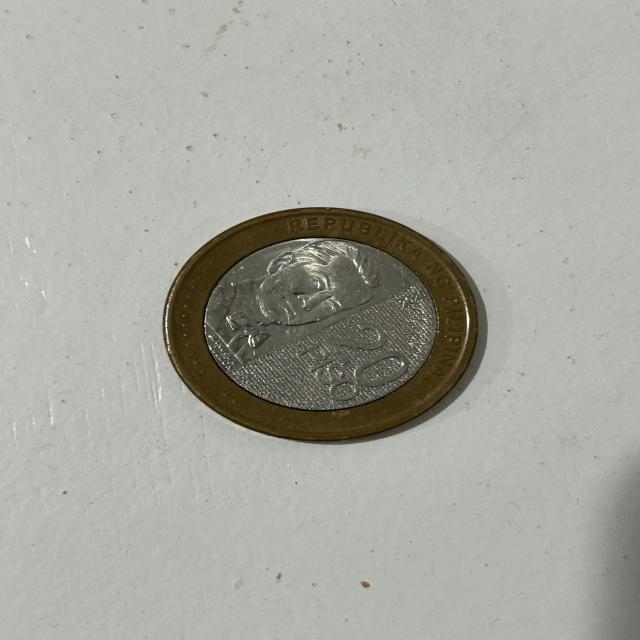20_New_Front: (291, 316, 408, 402)
